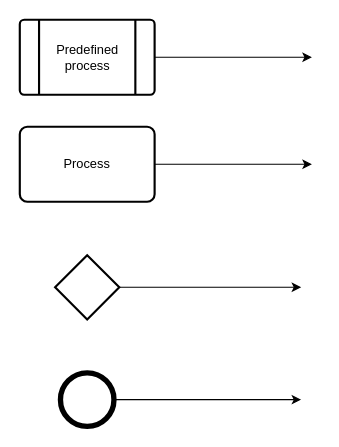
Some shapes in this 339 by 447 pixel diagram are drawn without their labels. Each missing label, with the box of its shape:
Decision: (54, 254, 120, 320)
End: (57, 370, 116, 429)
